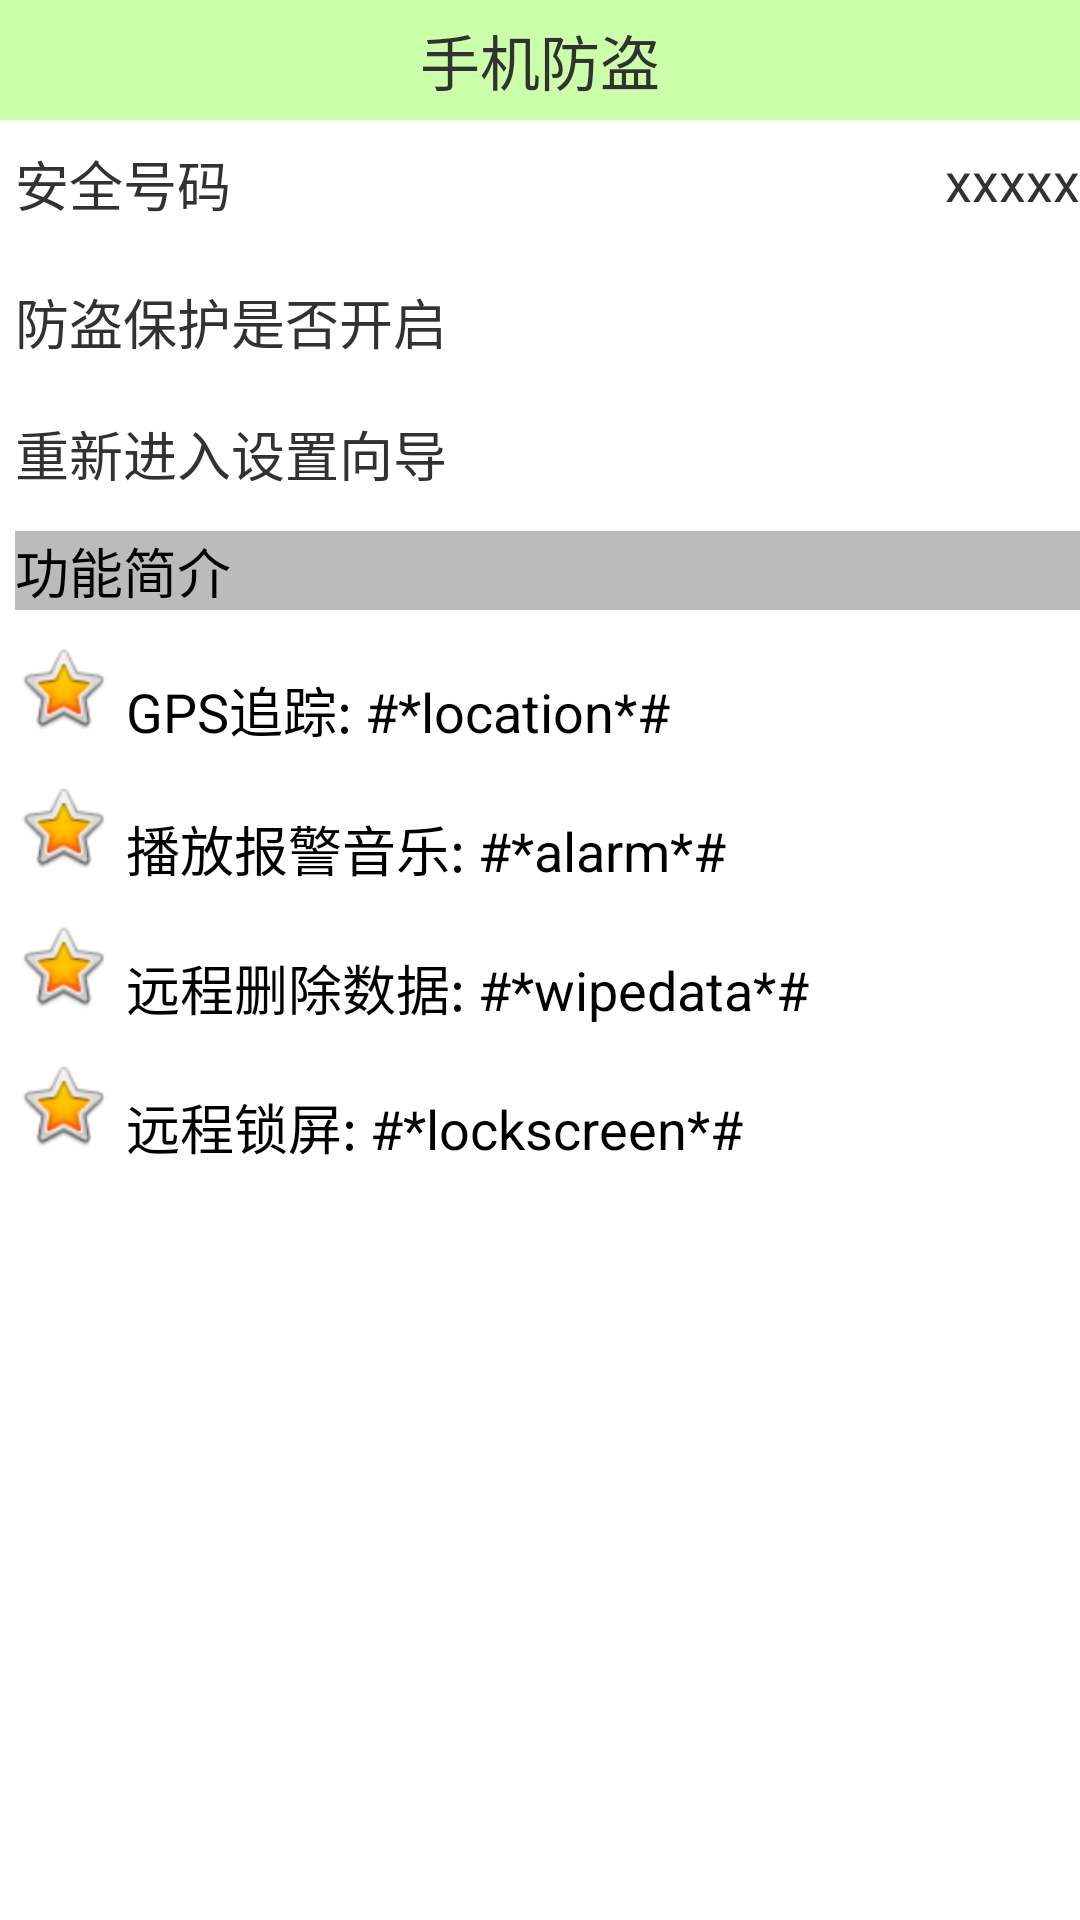

Point at icon controls on the screen. Image size 1080*1920, points as point (x, y).
star on: point (64, 689), point (64, 828), point (64, 967), point (64, 1106)
